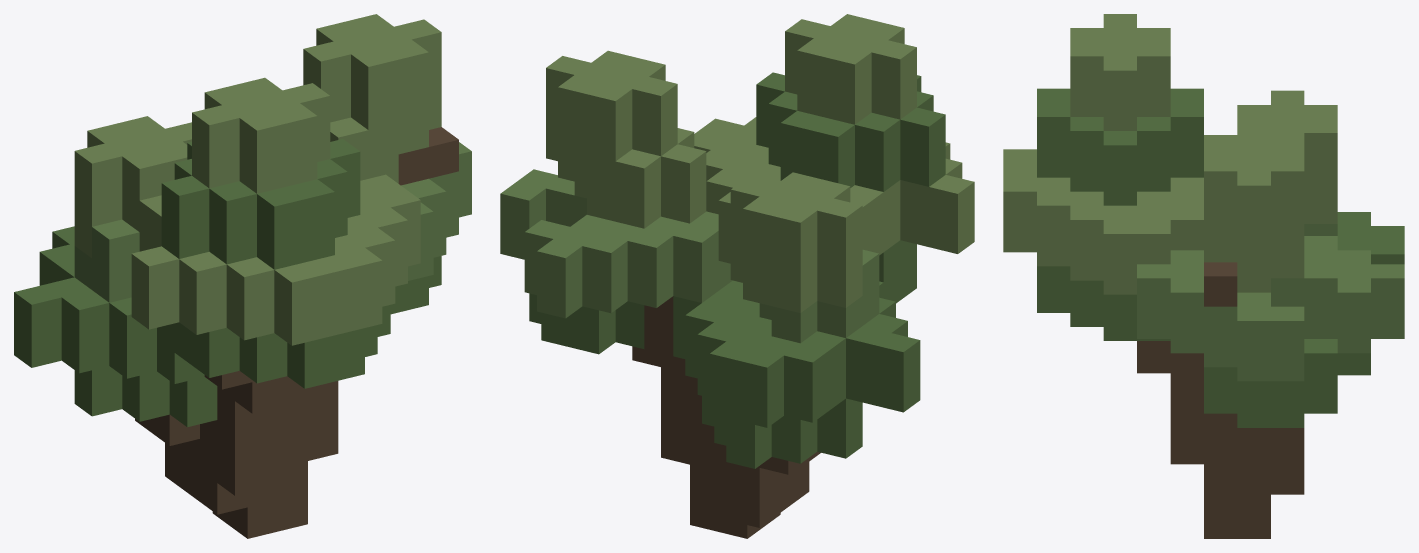
The model's file is blueberry_young_spring.glb.
3 renders of one model, left to right at view 1: azimuth 30°, elevation 25°; view 2: azimuth 150°, elevation 25°; view 3: azimuth 270°, elevation 25°, orthographic. The views are drawn at different scales.
Visible parts, largest first — view 1: VoxelVisual; view 2: VoxelVisual; view 3: VoxelVisual.
Part boxes in pixels (x1=…): VoxelVisual: x1=14, y1=14, x2=471, y2=538; VoxelVisual: x1=500, y1=14, x2=974, y2=538; VoxelVisual: x1=1003, y1=14, x2=1404, y2=538.
Size of what is drawn, in the model's own units: 0.875 by 0.9375 by 0.75.
